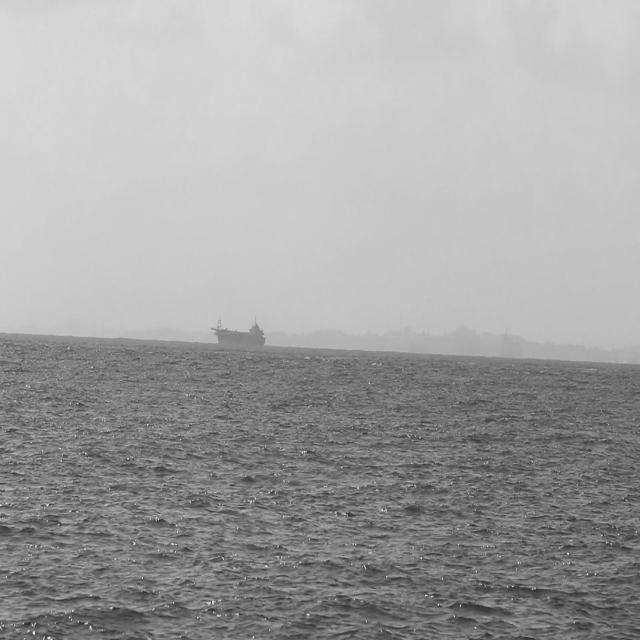ship: (208, 318, 263, 355)
